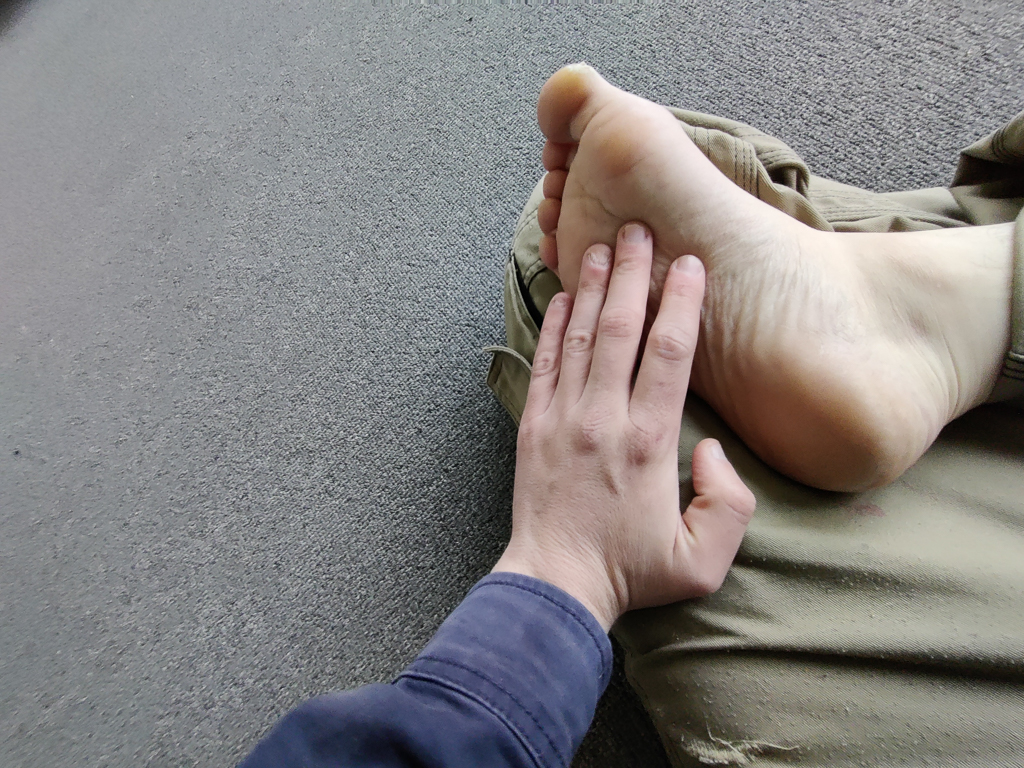Humanoid: (226, 49, 1024, 768)
